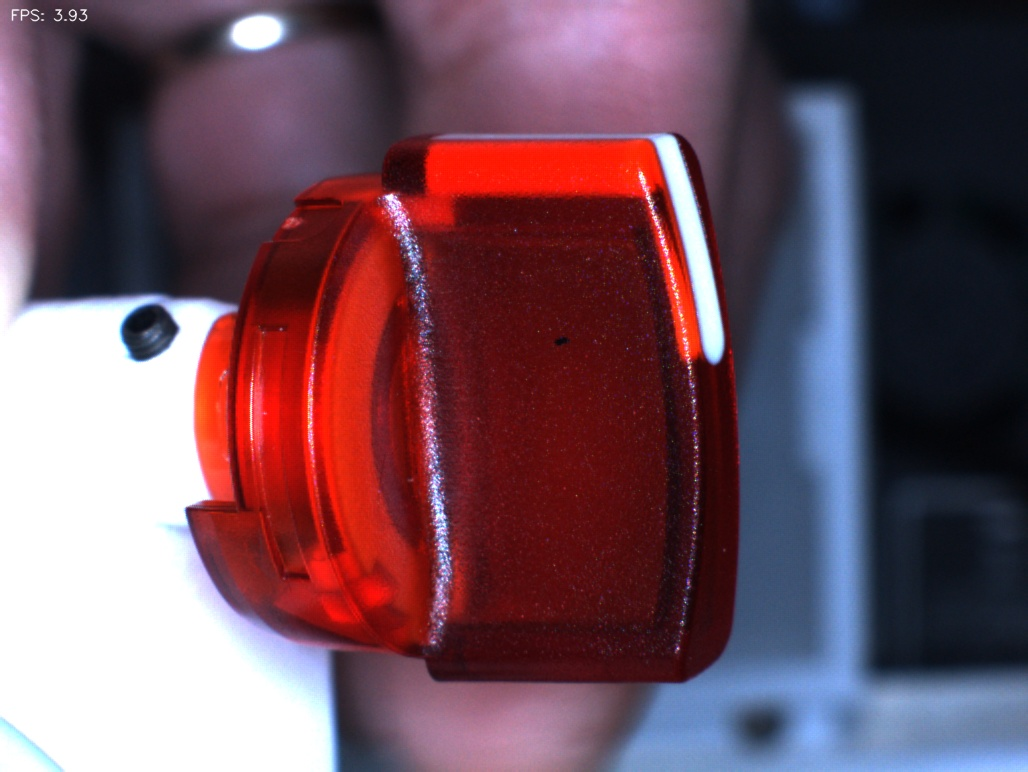PointNoir: (524, 290, 607, 394)
